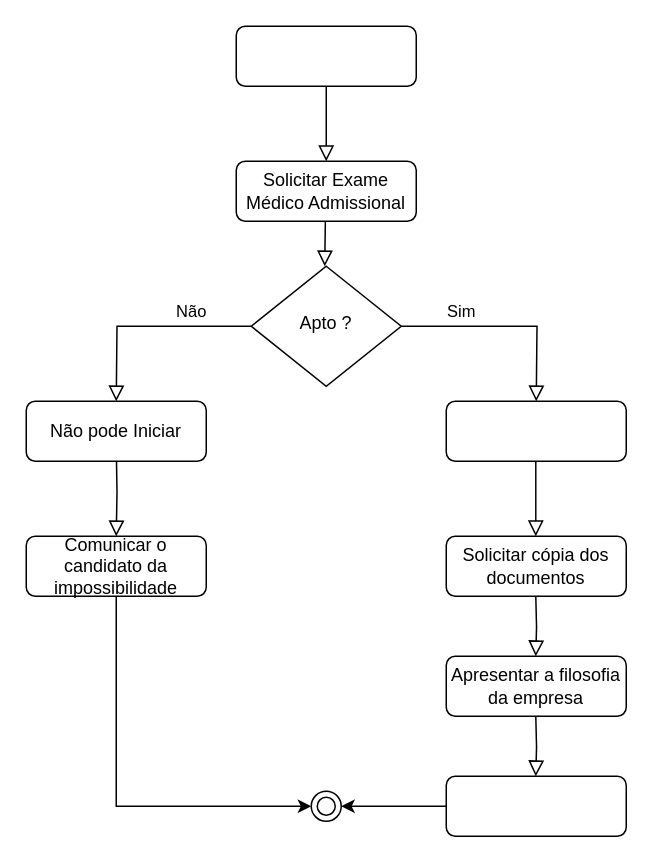
Some shapes in this 653 by 864 pixel diagram are drawn without their labels. The box of each missing label's shape, as (x1, y1, x2, y2) in pixels:
Apresentar a estrutura e as pessoas: (445, 775, 626, 836)
Convocar para Iniciar: (235, 25, 416, 86)
Pode iniciar: (445, 400, 626, 461)
